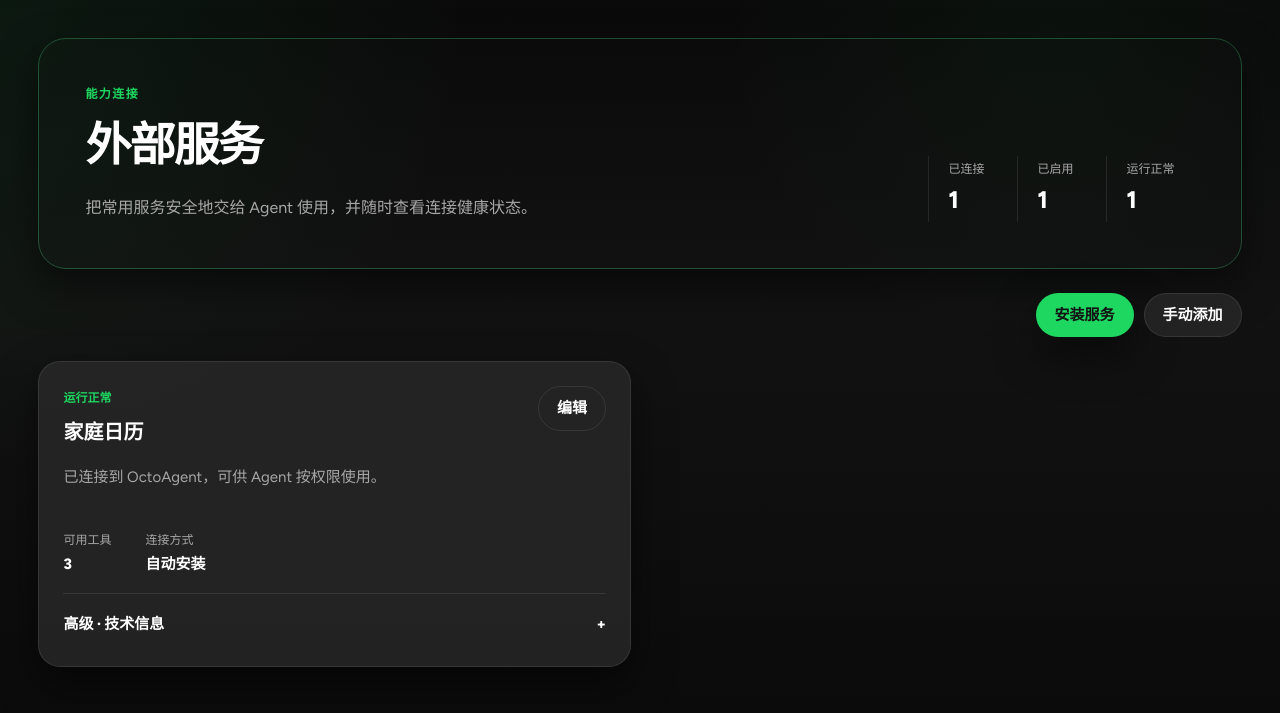
McpProviderCenter v2 › 普通卡片隐藏命令与密钥，高级区才显示净化后的技术摘要
Check: the text "已连接到 OctoAgent，可供 Agent 按权限使用。" is shown, box [63, 468, 386, 486]
Check: the text "uvx" is not shown
Click the button "高级 · 技术信息 +".
click(114, 624)  # box [63, 594, 606, 642]
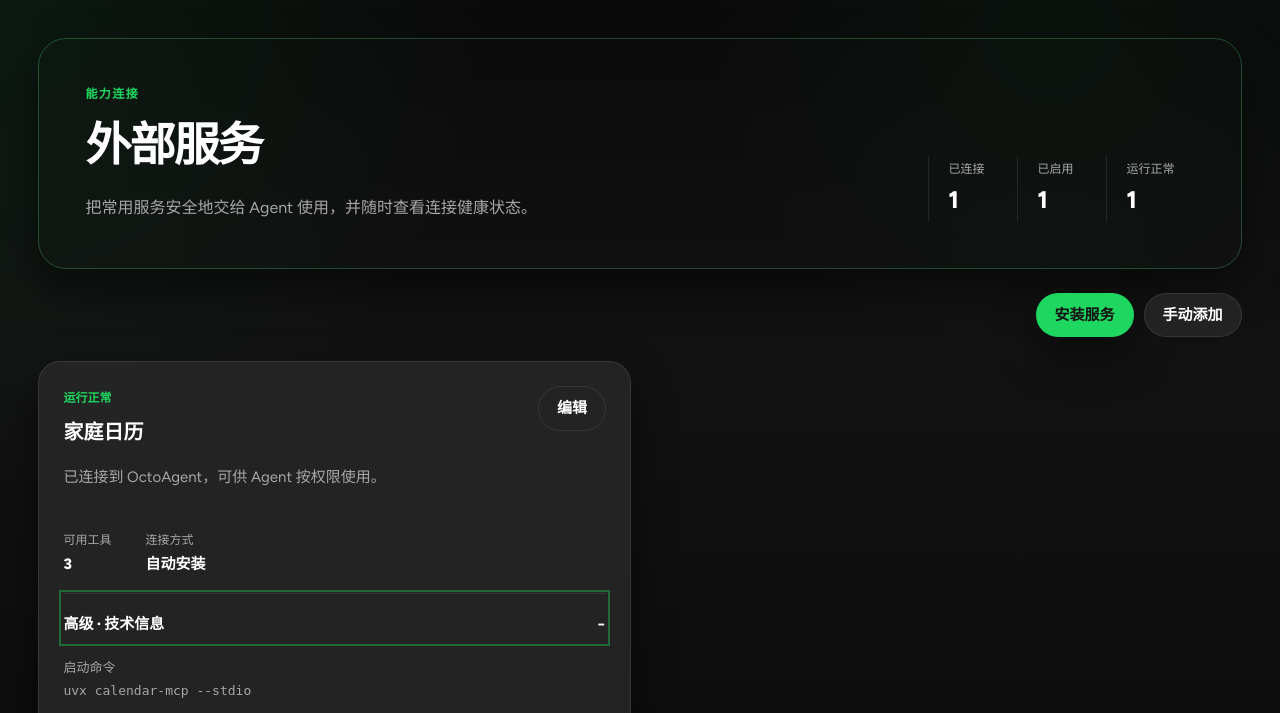
Check: the text "uvx calendar-mcp --stdio" is shown, box [63, 683, 251, 698]
